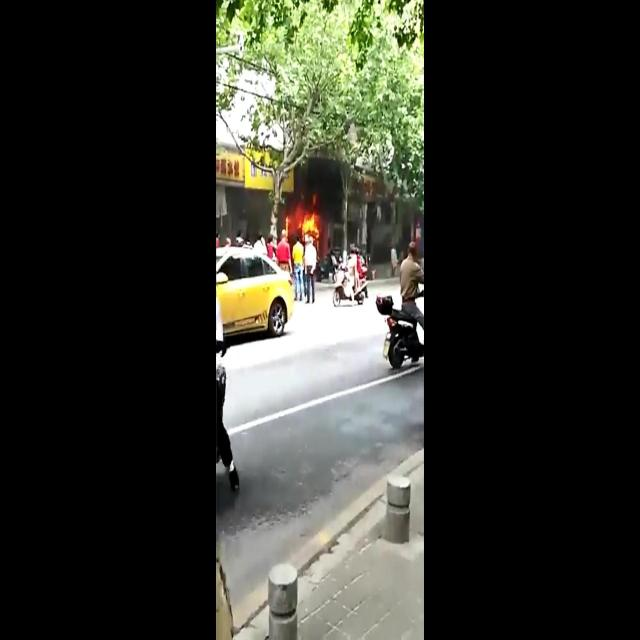fire: (299, 211, 318, 238)
smoke: (302, 156, 344, 213)
